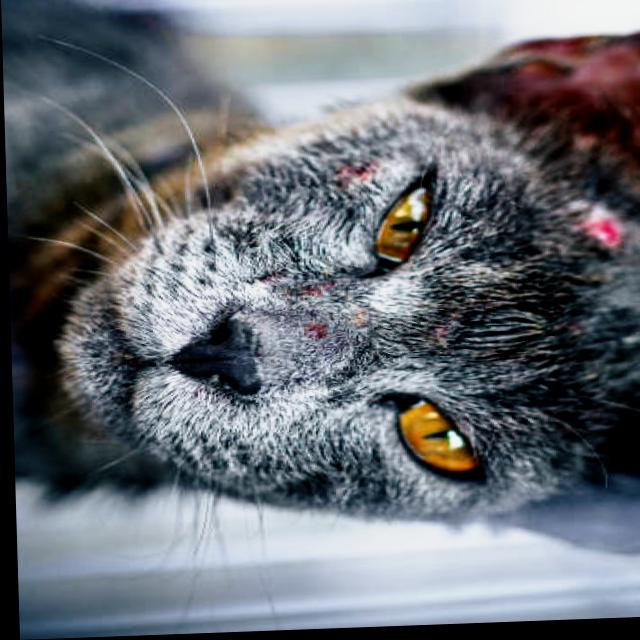ringworm: (581, 216, 621, 251)
